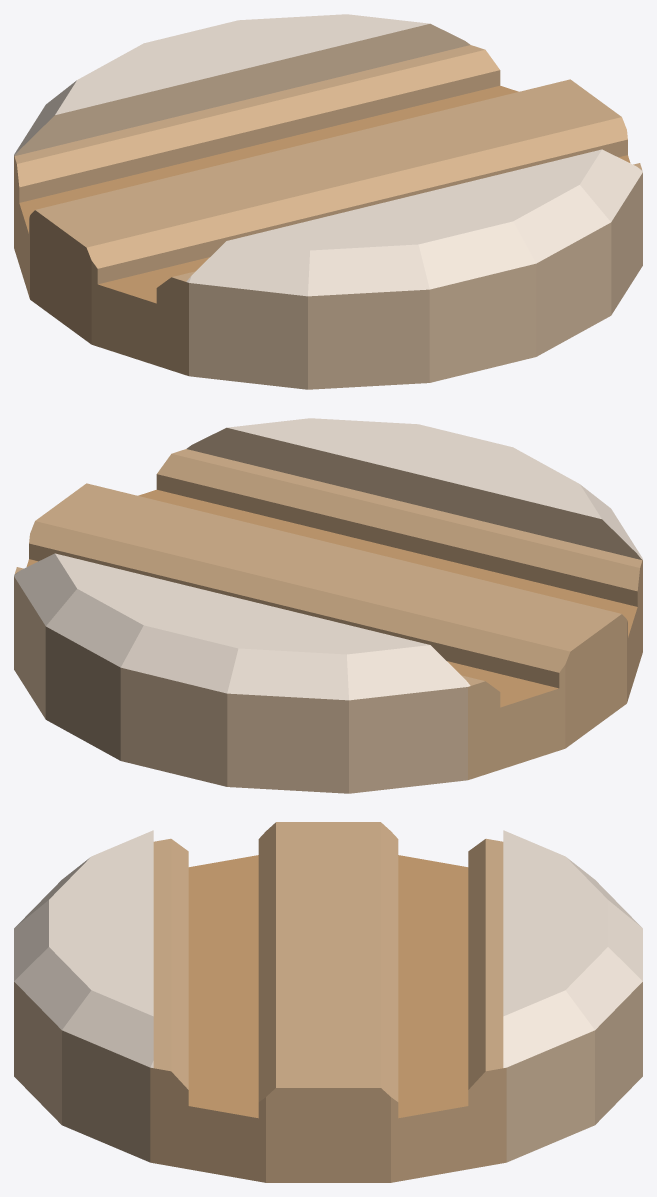
The model's file is Puzzle_Track_Rotating_Platform_Straight.fbx.
The picture shows the model from 3 angles, top to bottom: view 1: azimuth 30°, elevation 25°; view 2: azimuth 150°, elevation 25°; view 3: azimuth 270°, elevation 25°; orthographic projection.
Visible parts, largest first — view 1: Sandstone_4.Sandstone_4.Sandstone_4.Sandstone_4.Sandstone_4., Sandstone_Trim.Sandstone_Trim.Sandstone_Trim.Sandstone_Trim., Sandstone_Floor.Sandstone_Floor.Sandstone_Floor.Sandstone_Fl, Sandstone_5.Sandstone_5; view 2: Sandstone_4.Sandstone_4.Sandstone_4.Sandstone_4.Sandstone_4., Sandstone_Trim.Sandstone_Trim.Sandstone_Trim.Sandstone_Trim., Sandstone_Floor.Sandstone_Floor.Sandstone_Floor.Sandstone_Fl, Sandstone_5.Sandstone_5; view 3: Sandstone_4.Sandstone_4.Sandstone_4.Sandstone_4.Sandstone_4., Sandstone_Floor.Sandstone_Floor.Sandstone_Floor.Sandstone_Fl, Sandstone_5.Sandstone_5, Sandstone_Trim.Sandstone_Trim.Sandstone_Trim.Sandstone_Trim..
Boxes of the visible parts, x1,y1,x2,y2 form: Sandstone_4.Sandstone_4.Sandstone_4.Sandstone_4.Sandstone_4.: (14,45,641,375); Sandstone_Trim.Sandstone_Trim.Sandstone_Trim.Sandstone_Trim.: (15,23,642,389); Sandstone_Floor.Sandstone_Floor.Sandstone_Floor.Sandstone_Fl: (14,14,642,296); Sandstone_5.Sandstone_5: (19,85,630,303); Sandstone_4.Sandstone_4.Sandstone_4.Sandstone_4.Sandstone_4.: (15,449,642,779); Sandstone_Trim.Sandstone_Trim.Sandstone_Trim.Sandstone_Trim.: (14,427,641,793); Sandstone_Floor.Sandstone_Floor.Sandstone_Floor.Sandstone_Fl: (14,418,642,700); Sandstone_5.Sandstone_5: (26,489,637,707); Sandstone_4.Sandstone_4.Sandstone_4.Sandstone_4.Sandstone_4.: (150,822,506,1182); Sandstone_Floor.Sandstone_Floor.Sandstone_Floor.Sandstone_Fl: (14,830,642,1067); Sandstone_5.Sandstone_5: (188,855,468,1118); Sandstone_Trim.Sandstone_Trim.Sandstone_Trim.Sandstone_Trim.: (14,982,642,1162).
Bounding box in the file's own units: 0.9 × 0.2 × 0.9.
